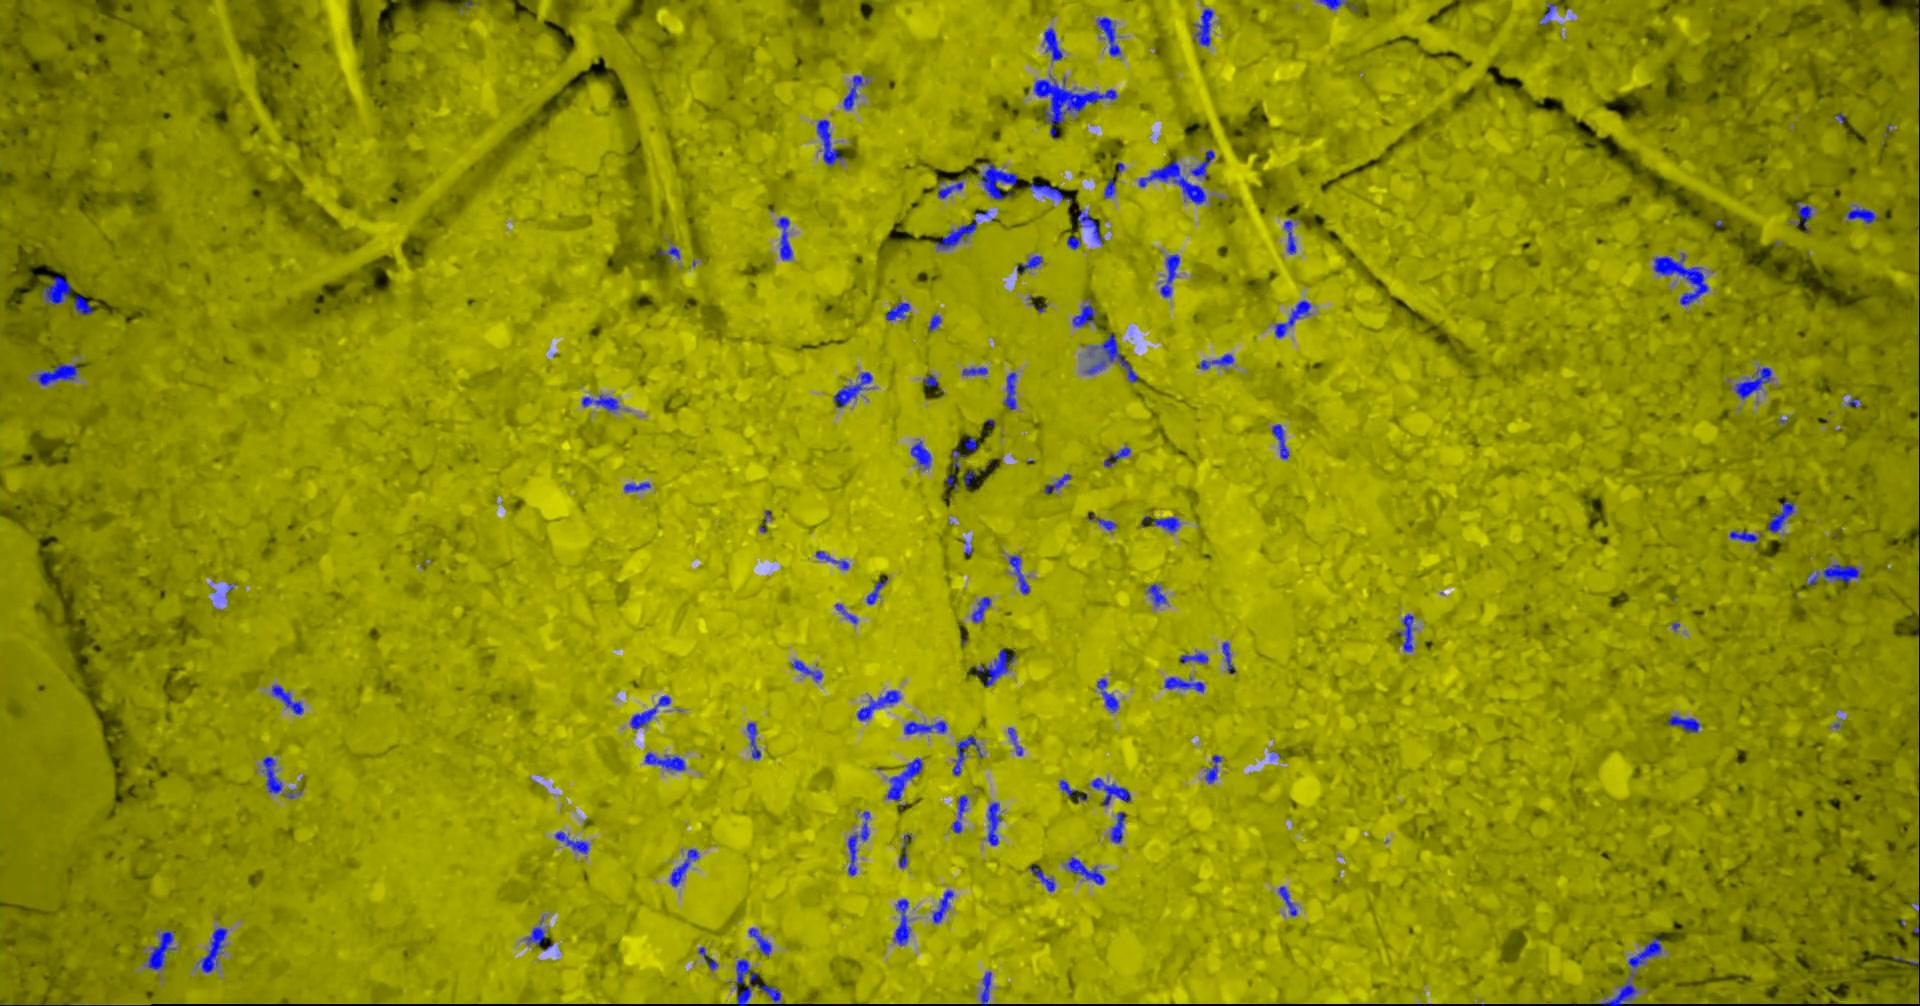ant: (1138, 160, 1205, 203), (1653, 253, 1708, 305), (1084, 332, 1137, 382), (735, 959, 780, 1005), (974, 648, 1015, 686), (886, 758, 922, 800), (856, 688, 900, 720), (833, 371, 872, 406), (847, 810, 869, 875), (629, 695, 670, 728), (980, 163, 1017, 199), (1274, 300, 1310, 337), (197, 927, 227, 972), (817, 119, 844, 165), (935, 218, 977, 249), (1627, 934, 1661, 969), (1735, 367, 1771, 399), (952, 735, 982, 775), (1090, 777, 1130, 805), (1808, 564, 1860, 586), (669, 848, 698, 887), (146, 930, 174, 969), (1065, 856, 1103, 884), (270, 683, 303, 714), (1096, 17, 1120, 56), (34, 363, 77, 385), (842, 74, 867, 109), (1599, 981, 1636, 1005), (1076, 210, 1102, 243), (41, 276, 70, 305), (1768, 499, 1793, 532), (1159, 254, 1178, 297), (893, 898, 910, 944), (1008, 555, 1029, 594), (1029, 182, 1070, 201), (554, 831, 588, 854), (1192, 8, 1213, 46), (262, 756, 282, 793), (1189, 149, 1214, 178), (1096, 678, 1117, 713), (1396, 614, 1415, 652), (644, 752, 684, 770), (1789, 199, 1811, 232), (776, 216, 792, 259), (932, 889, 952, 923), (748, 927, 771, 956), (791, 659, 822, 681), (985, 801, 1001, 845), (582, 394, 618, 412), (1164, 676, 1204, 692), (1029, 866, 1055, 890), (1043, 27, 1062, 60), (815, 550, 848, 569), (1072, 304, 1098, 326), (951, 795, 968, 832), (903, 720, 946, 734), (1197, 353, 1233, 370), (1271, 423, 1288, 459), (866, 578, 888, 605), (910, 439, 931, 467), (1043, 473, 1070, 493), (1667, 714, 1699, 732), (1277, 887, 1297, 916), (1103, 447, 1130, 467), (526, 916, 543, 945), (937, 178, 963, 198), (745, 721, 759, 758), (971, 596, 990, 622), (1846, 207, 1877, 224), (1110, 810, 1125, 843), (1204, 754, 1222, 782), (885, 301, 910, 320), (1016, 255, 1043, 273), (1003, 372, 1016, 409), (697, 946, 717, 969), (1087, 513, 1116, 528), (1222, 641, 1236, 673), (1152, 516, 1178, 532), (1283, 220, 1295, 254), (1145, 583, 1164, 606), (1007, 727, 1022, 754), (898, 835, 910, 868), (836, 603, 857, 622), (72, 295, 91, 315), (1539, 3, 1557, 24), (1730, 530, 1757, 542), (980, 970, 990, 1005), (1178, 652, 1208, 663), (951, 448, 968, 467), (1103, 177, 1117, 198), (1059, 779, 1076, 796), (657, 246, 679, 259), (623, 481, 650, 492), (927, 312, 941, 332), (1065, 232, 1079, 249), (1318, 0, 1346, 8), (963, 434, 977, 450), (963, 367, 987, 375), (923, 373, 936, 386)
